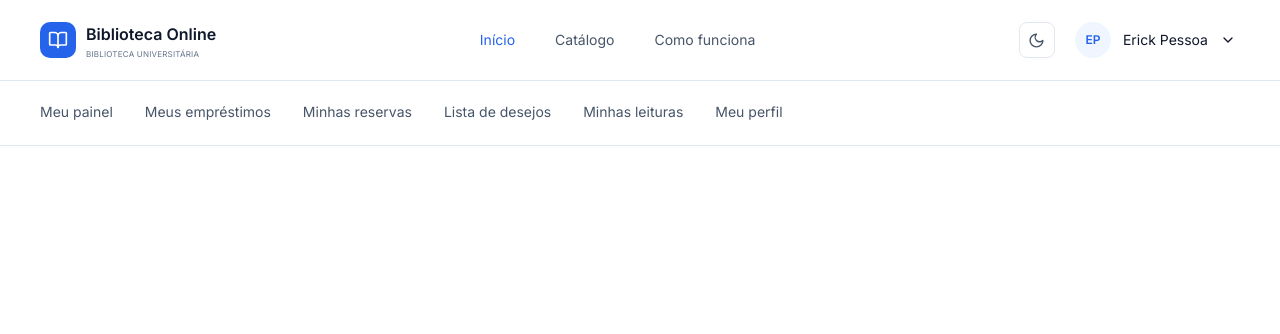
Test: exibe a administração e fecha o menu da conta por teclado e clique externo
The image size is (1280, 334).
Click the button with aria-label "Abrir menu da conta": (1156, 40) 1071,18 -> 1240,62
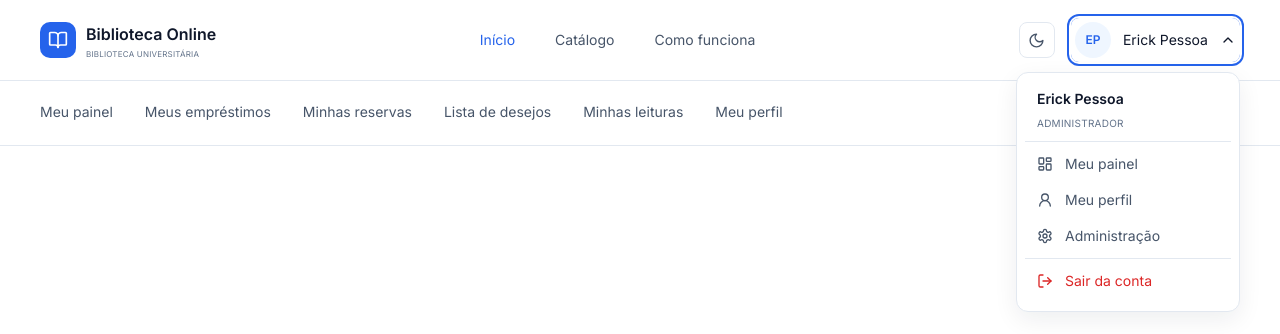
Press Escape
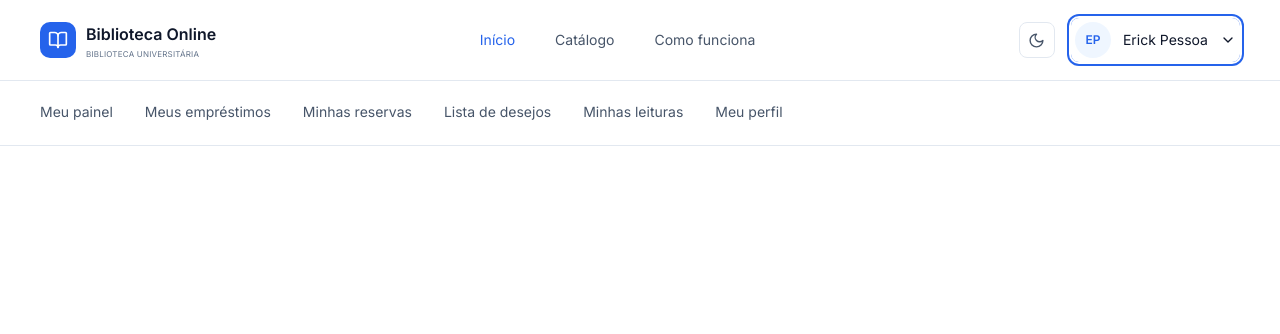
Expected: the menu is gone
Click the button with aria-label "Abrir menu da conta": (1156, 40) 1071,18 -> 1240,62
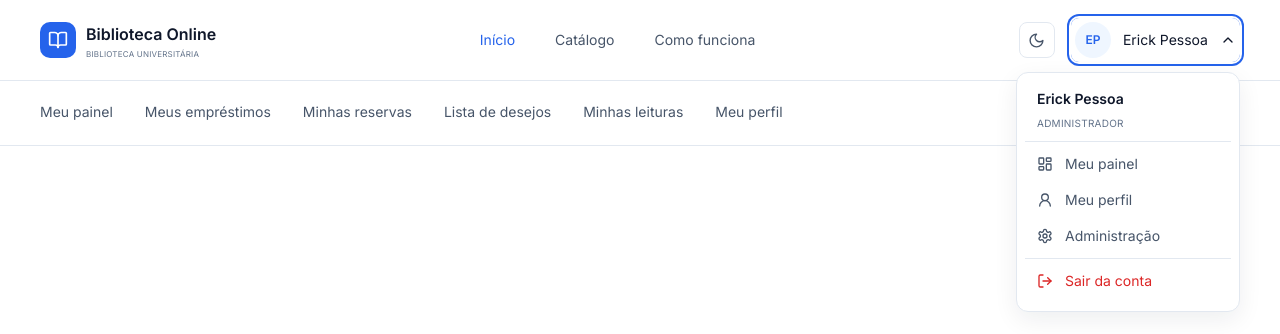
Click the element that starts with "Biblioteca Online": (640, 73) 0,0 -> 1279,146
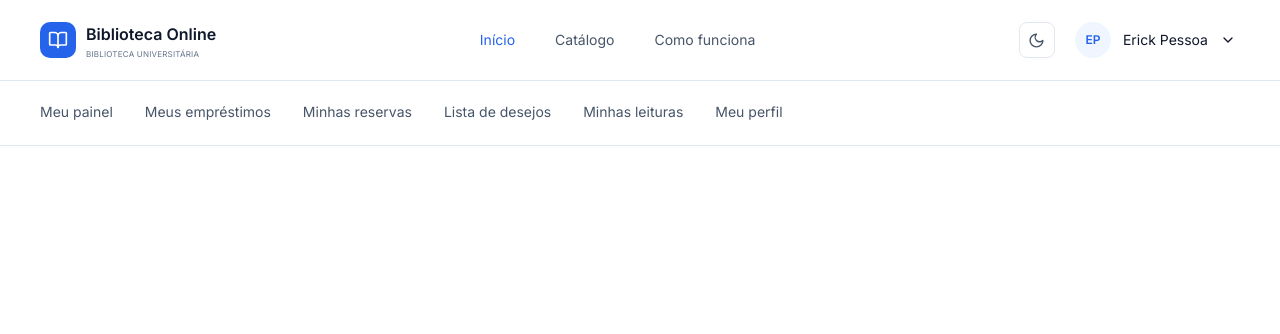
Expected: the menu is gone
